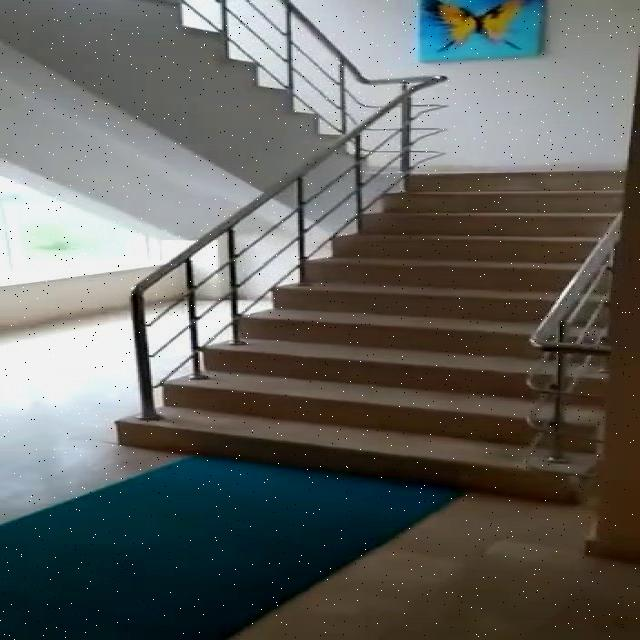stairs: (112, 168, 624, 504)
